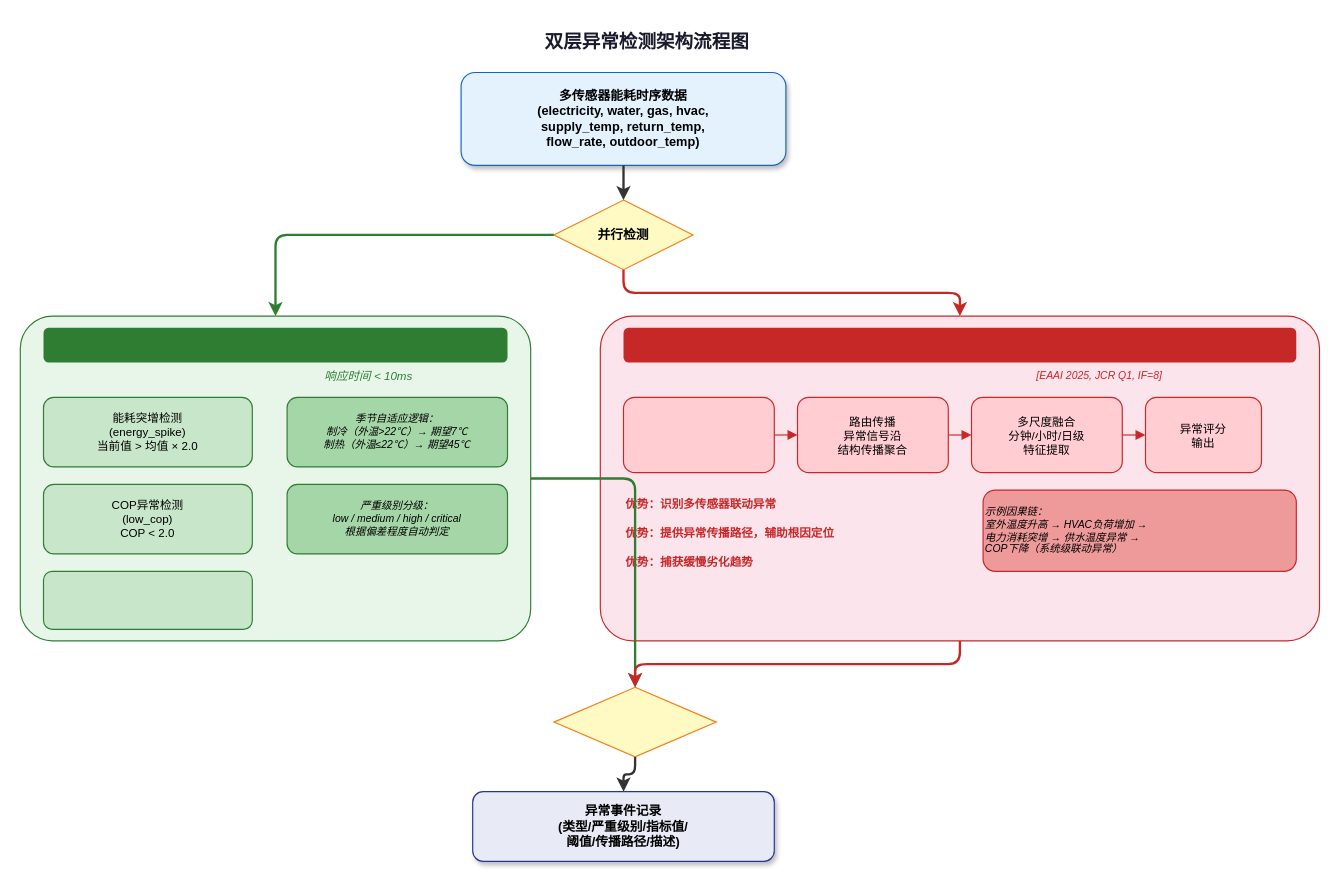
The diagram is 1340 pixels wide and 890 high, and some of its shapes have lost their labels. Here are the shapes that lost their labels. From the top down, the centre of each, then its label:
point (275, 344): 第一层：阈值检测器 (ThresholdDetector)
point (959, 344): 第二层：SAR-AD 深度检测 (结构感知路由)
point (698, 434): 结构学习 自适应发现 传感器依赖拓扑
point (147, 599): 温度偏差检测 (temp_deviation) |供水温度 - 期望值| > 5℃
point (634, 721): 异常事件汇总
